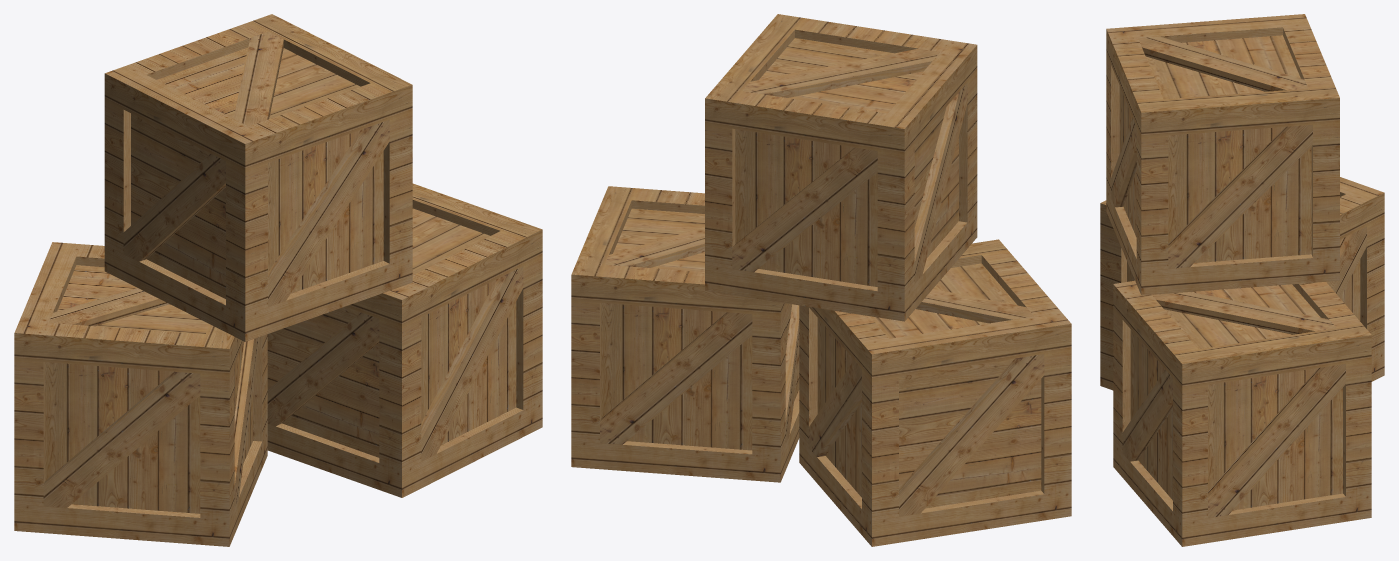
3 views of the same model, side by side, from view 1: azimuth 30°, elevation 25°; view 2: azimuth 150°, elevation 25°; view 3: azimuth 270°, elevation 25° (orthographic). The views are drawn at different scales.
Visible parts, largest first — view 1: Box003, Box001, Box002; view 2: Box003, Box001, Box002; view 3: Box002, Box003, Box001.
Part boxes in pixels (bbox=[...]): Box003: bbox=[104, 14, 412, 341]; Box001: bbox=[14, 242, 267, 546]; Box002: bbox=[267, 183, 542, 497]; Box003: bbox=[705, 14, 977, 321]; Box001: bbox=[799, 239, 1071, 546]; Box002: bbox=[571, 186, 799, 482]; Box002: bbox=[1113, 280, 1371, 546]; Box003: bbox=[1106, 14, 1339, 295]; Box001: bbox=[1100, 177, 1384, 390].
Size of the model in its own units: 91.84 by 69.2 by 48.74.
Materials: 1 (1 with a texture image).
